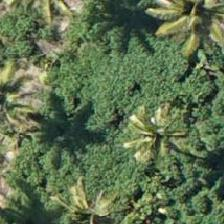coconut_tree: (114, 89, 204, 179), (151, 0, 223, 55)
